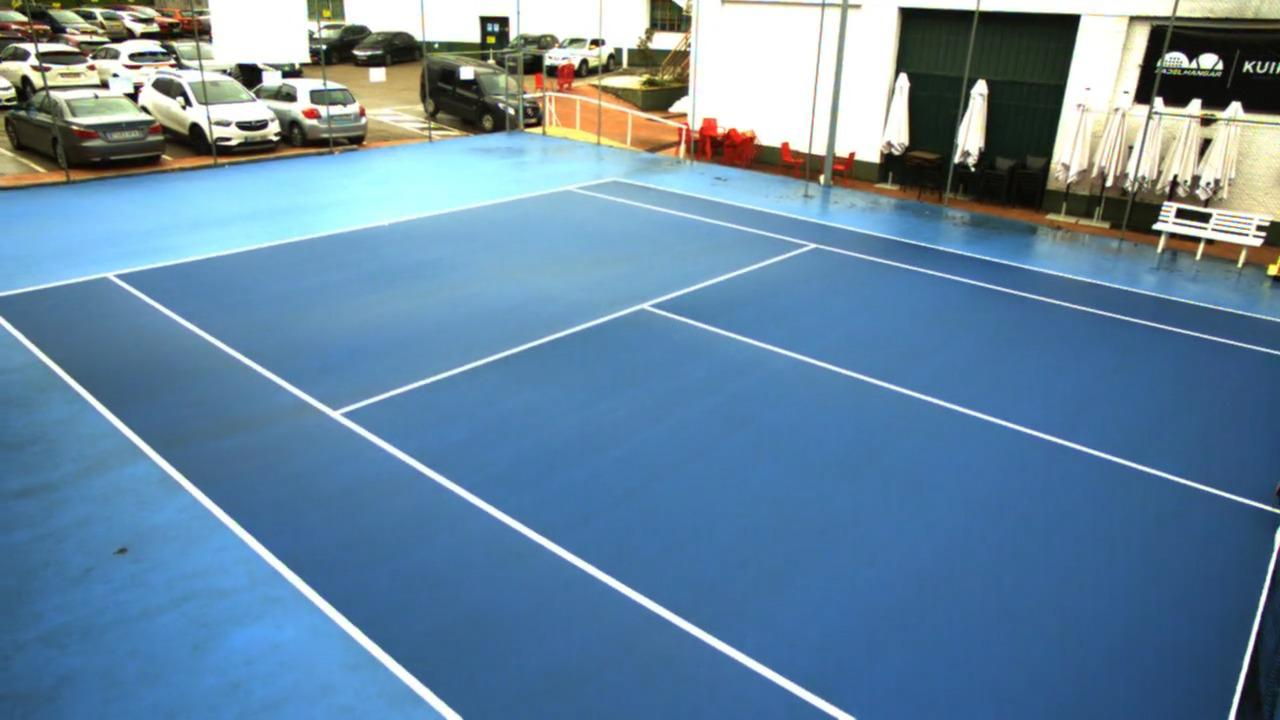cancha_tenis: (109, 186, 1280, 720)
point_f1: (97, 263, 124, 286)
point_f2: (559, 180, 583, 195)
point_fc1: (377, 214, 397, 234)
point_i1: (319, 398, 358, 429)
point_i2: (793, 237, 826, 257)
point_ic1: (630, 292, 663, 315)
